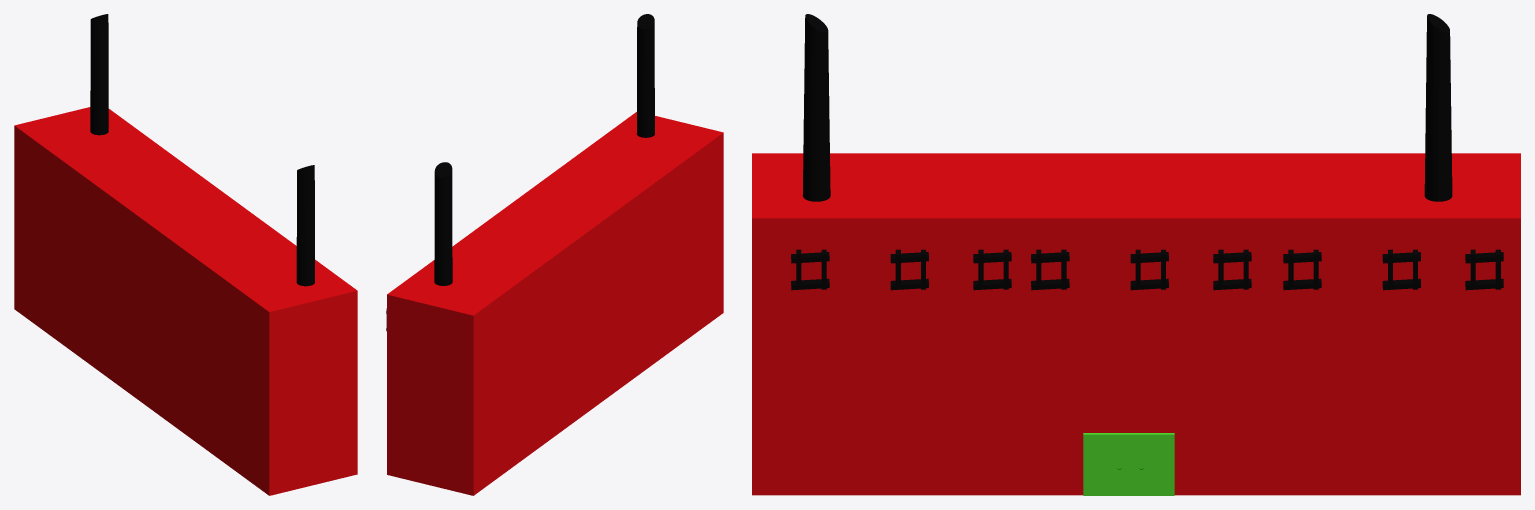
File: Asilo.fbx
3 renders of one model, left to right at view 1: azimuth 30°, elevation 25°; view 2: azimuth 150°, elevation 25°; view 3: azimuth 270°, elevation 25°, orthographic. The views are drawn at different scales.
Parts seen in each view (by area): view 1: Cube; view 2: Cube; view 3: Cube.
Part boxes in pixels (x1,y1,x2,y2): Cube: (14, 14, 357, 495); Cube: (386, 14, 723, 495); Cube: (752, 14, 1520, 495).
Bounding box in the file's own units: 8357 × 25395 × 38741.
